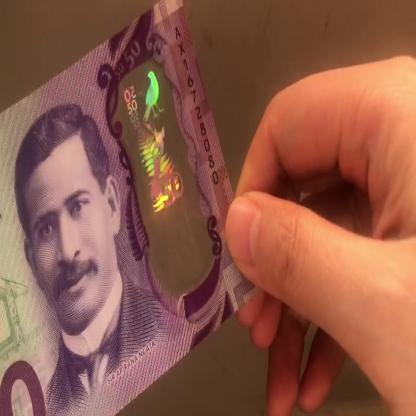50F: (123, 67, 191, 271)
